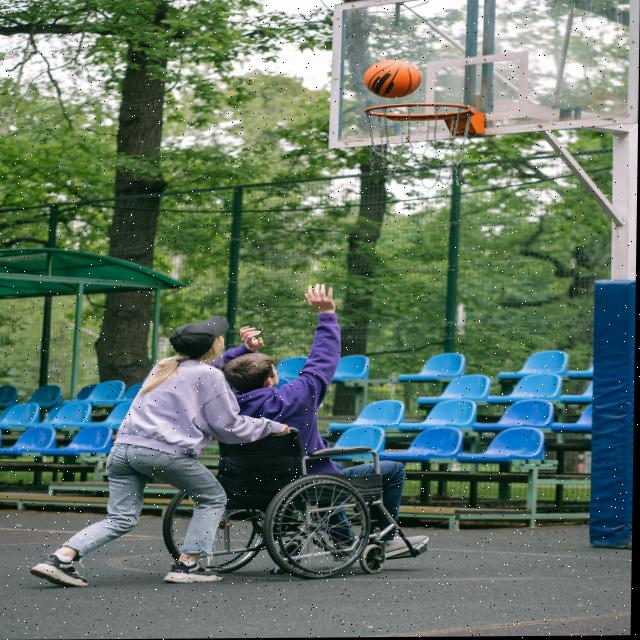Basketball: (365, 59, 422, 98)
